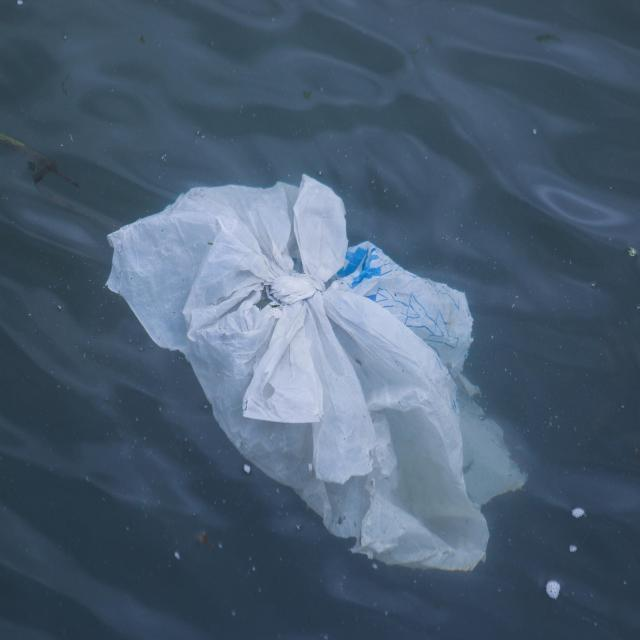Plastic_Bag: (105, 168, 512, 594)
